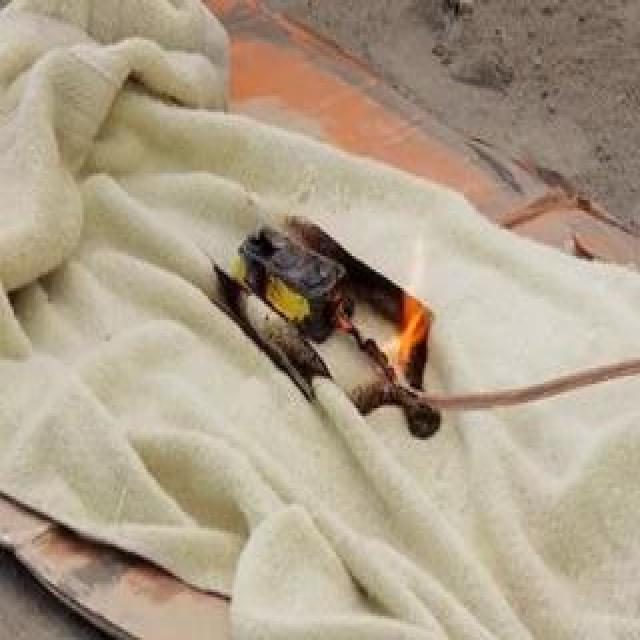Fire: (344, 253, 420, 387)
